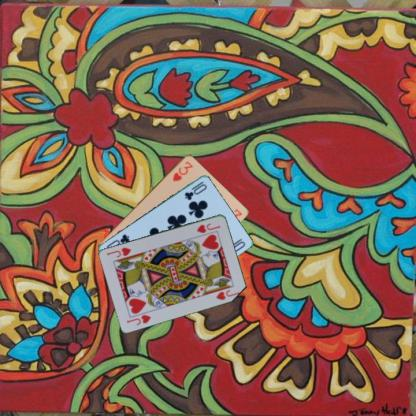10c: (182, 179, 208, 201)
3h: (170, 158, 194, 182)
Jh: (124, 312, 153, 326), (194, 221, 221, 234)
